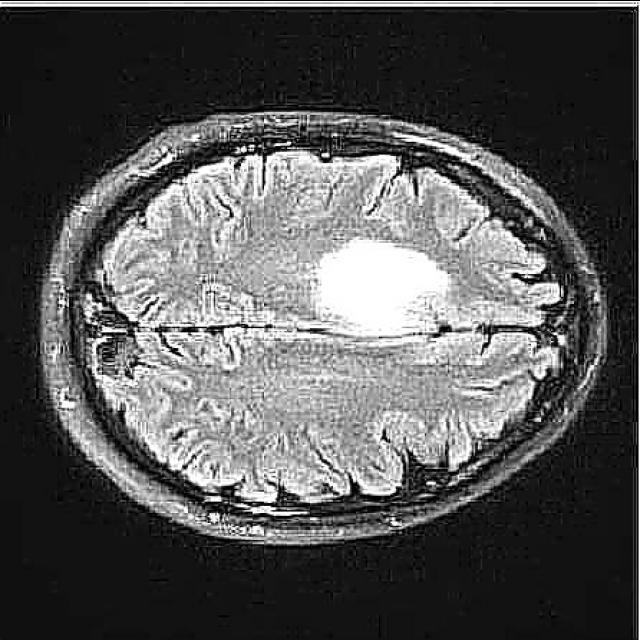tumor: (317, 238, 452, 341)
